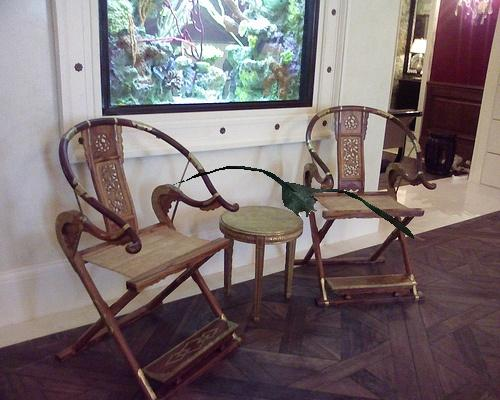tampered: (172, 167, 414, 239)
